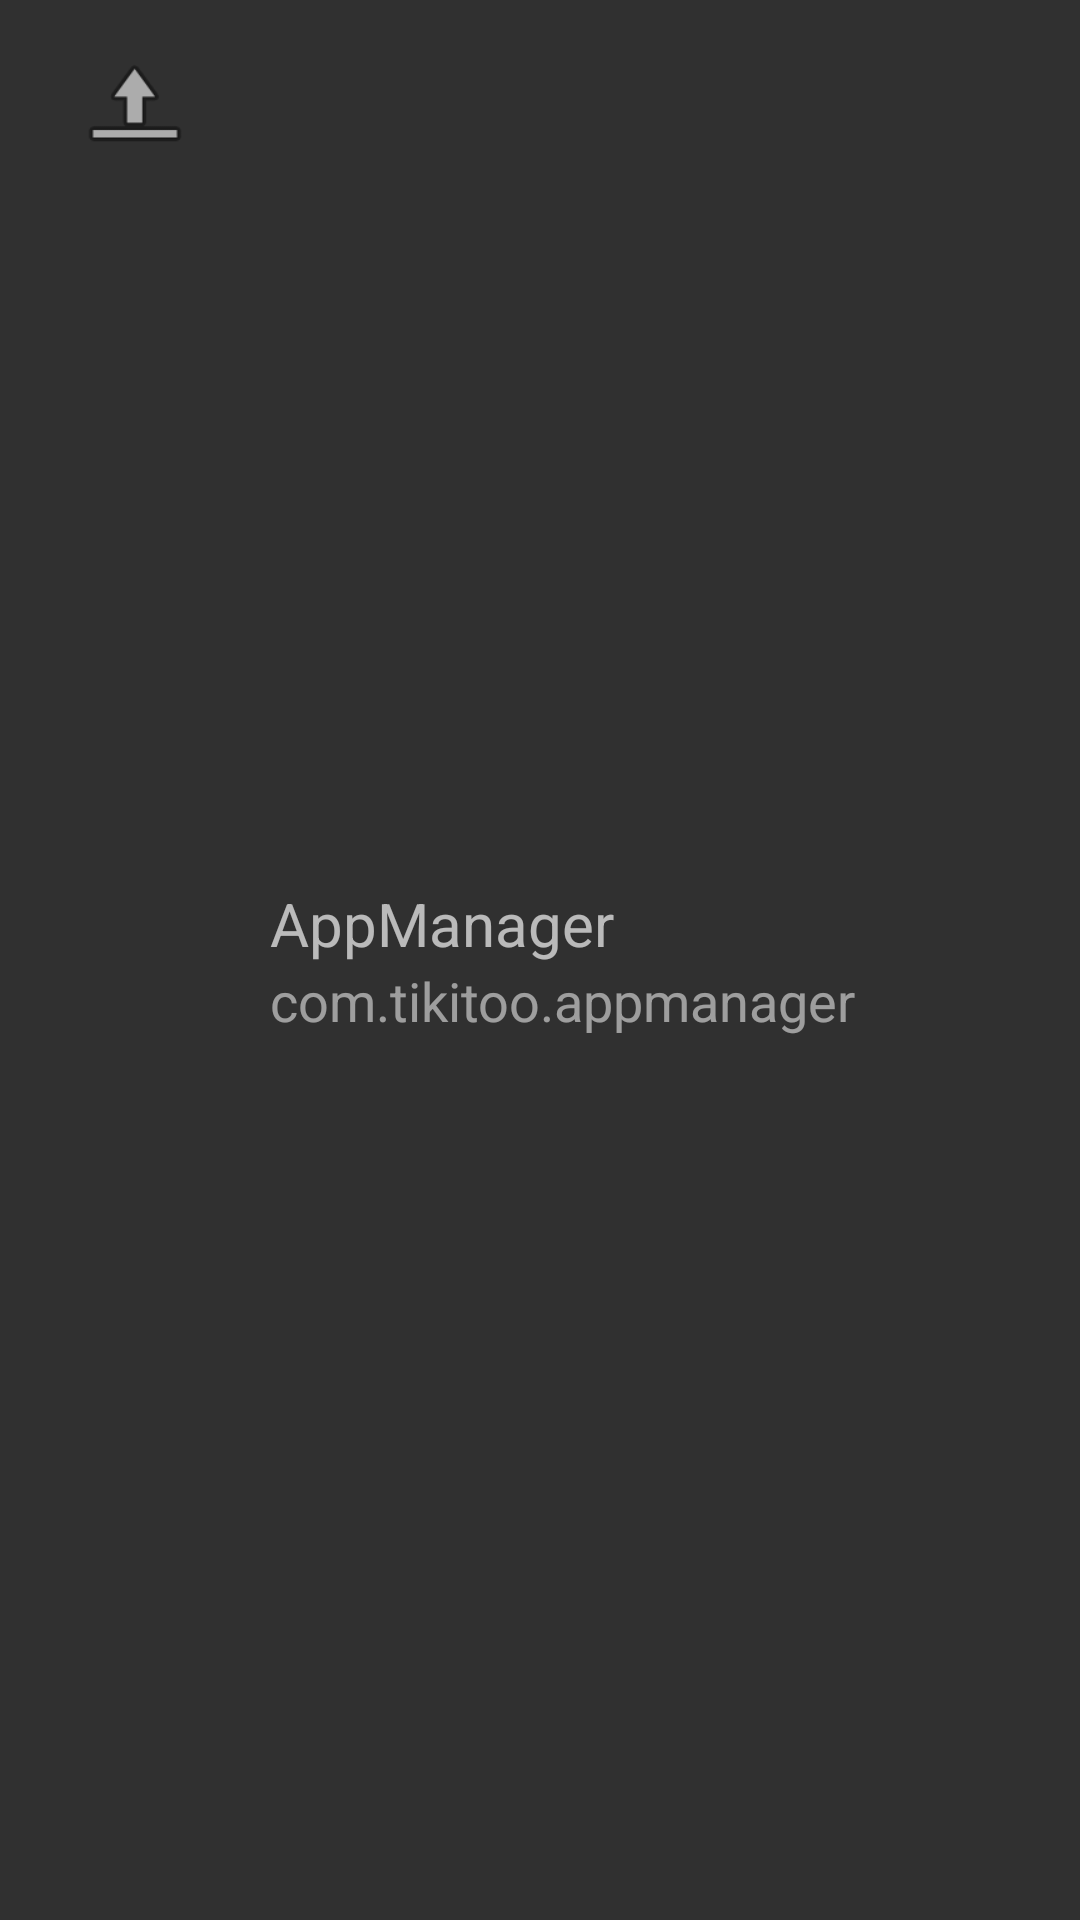

Icons on this 1080 × 1920 Android screen, each with its box as (x1, y1, x2, y2):
upload: (93, 69, 177, 139)
